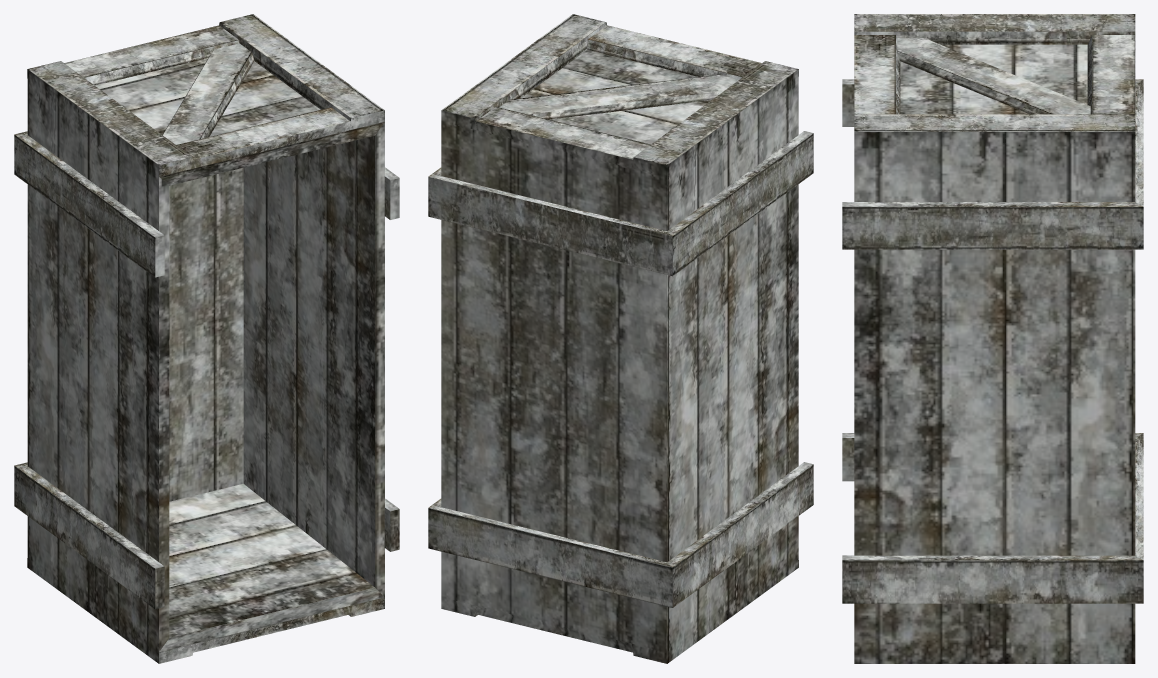
The model's file is crate02_snow.glb.
3 views of the same model, side by side, from view 1: azimuth 30°, elevation 25°; view 2: azimuth 150°, elevation 25°; view 3: azimuth 270°, elevation 25° (orthographic). The views are drawn at different scales.
Size of the model in its own units: 26.02 by 50.66 by 25.97.
Materials: 1 (1 with a texture image).
